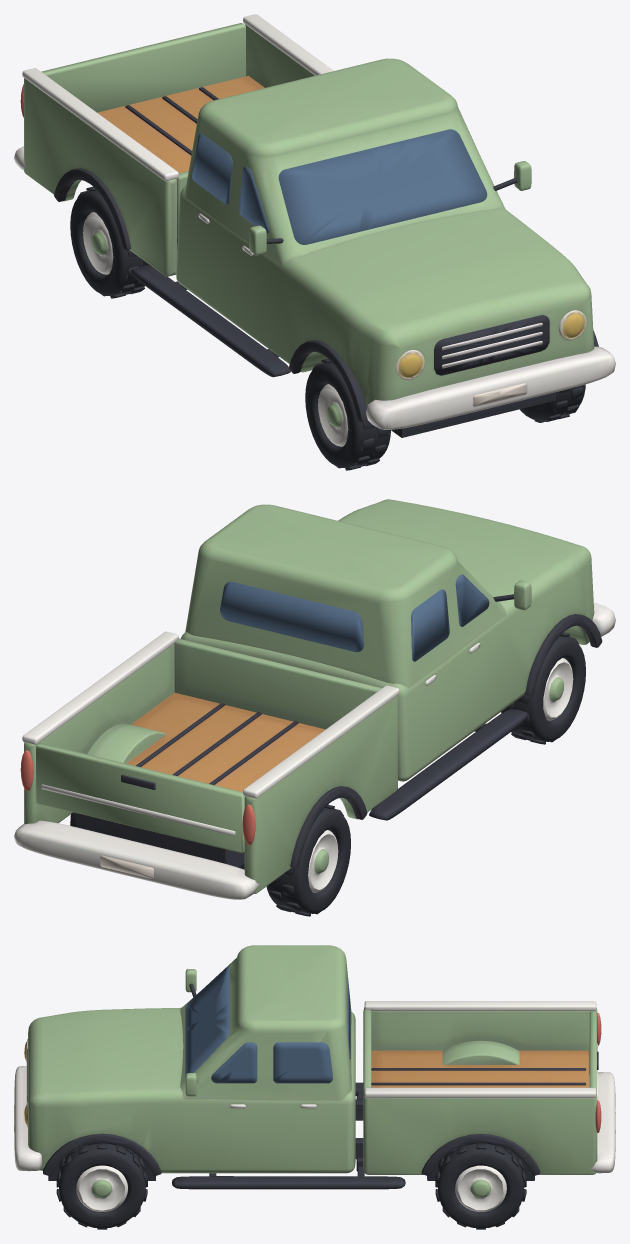
File: veh_pickup.glb
3 renders of one model, top to bottom at view 1: azimuth 30°, elevation 25°; view 2: azimuth 150°, elevation 25°; view 3: azimuth 270°, elevation 25°, orthographic. The views are drawn at different scales.
Visible parts, largest first — view 1: pickup-truck_body, pickup-truck_windows, pickup-truck_tailgate, pickup-truck_wheel_fl; view 2: pickup-truck_body, pickup-truck_tailgate, pickup-truck_windows, pickup-truck_wheel_fl; view 3: pickup-truck_body, pickup-truck_wheel_fl, pickup-truck_windows, pickup-truck_tailgate.
Boxes of the visible parts, x1,y1,x2,y2 form: pickup-truck_body: [14, 14, 615, 437]; pickup-truck_windows: [192, 129, 487, 244]; pickup-truck_tailgate: [41, 23, 348, 446]; pickup-truck_wheel_fl: [70, 187, 585, 470]; pickup-truck_body: [14, 499, 615, 899]; pickup-truck_tailgate: [35, 658, 573, 892]; pickup-truck_windows: [220, 574, 489, 661]; pickup-truck_wheel_fl: [70, 632, 585, 916]; pickup-truck_body: [14, 945, 615, 1189]; pickup-truck_wheel_fl: [56, 1143, 526, 1229]; pickup-truck_windows: [185, 966, 350, 1083]; pickup-truck_tailgate: [76, 1011, 598, 1211].
Size of the model in its own units: 2.26 by 1.97 by 5.28.
7 materials, 1 textured.
